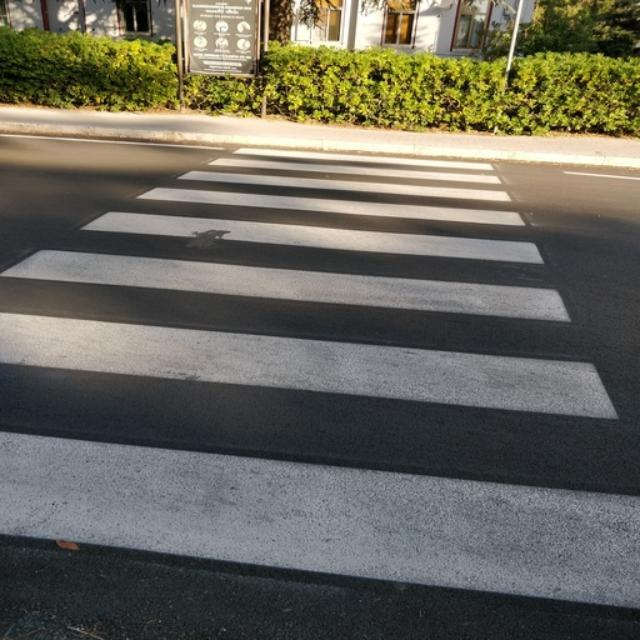sidewalk: (0, 148, 640, 608)
